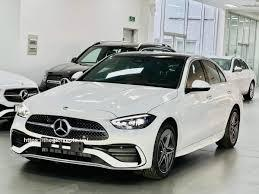mercedes: (20, 91, 28, 100)
